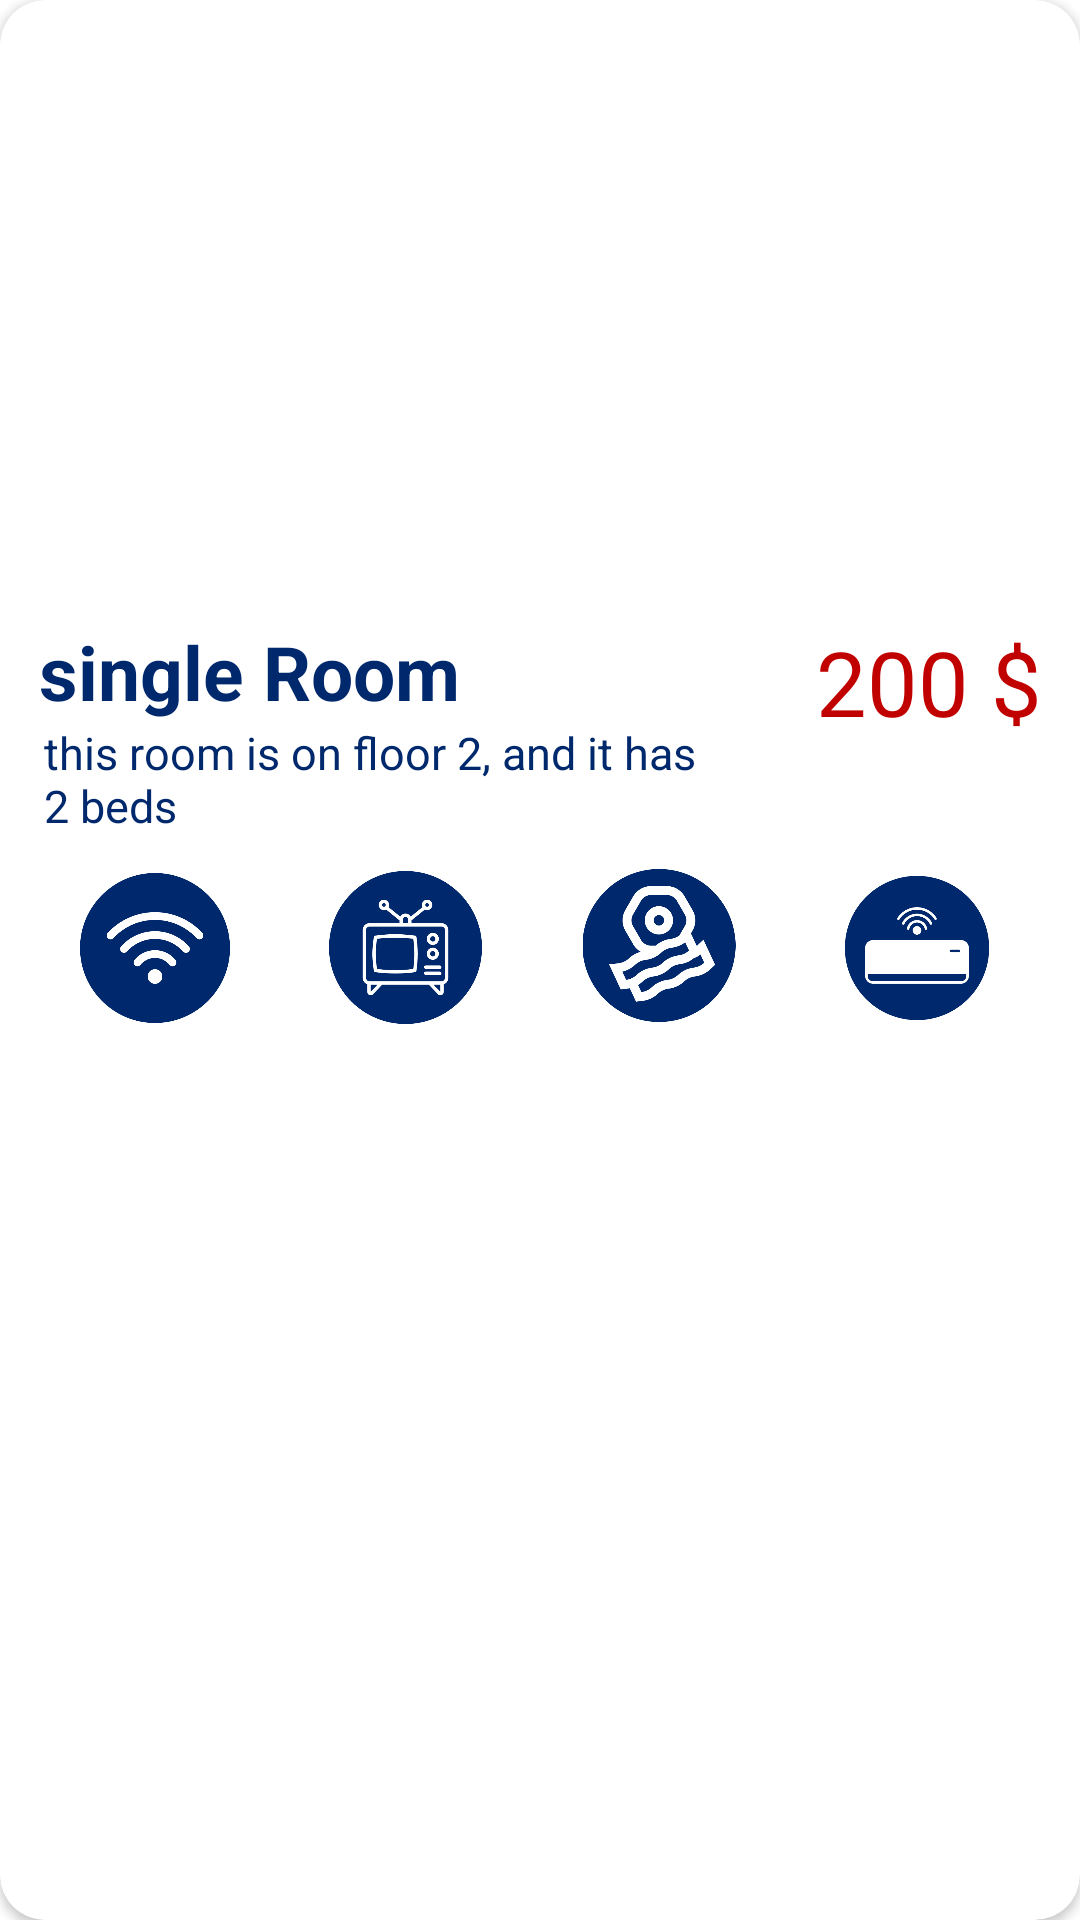

Point at icon controls on the screen. Image size 1080x1920, points as [x,y].
english breakfast: [659,945]
tv show: [405,947]
wifi: [155,948]
